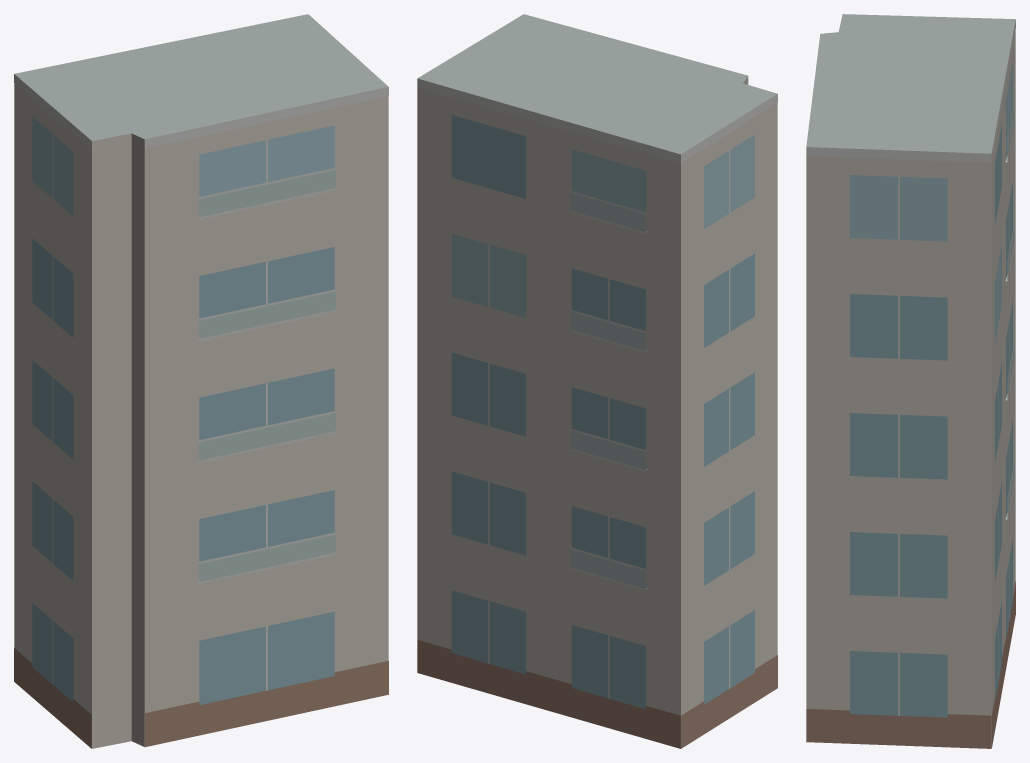
Rendered from survey-upis-32970382.glb.
3 views of the same model, side by side, from view 1: azimuth 30°, elevation 25°; view 2: azimuth 150°, elevation 25°; view 3: azimuth 270°, elevation 25° (orthographic). The views are drawn at different scales.
Visible parts, largest first — view 1: survey-upis-32970382.tmp; view 2: survey-upis-32970382.tmp; view 3: survey-upis-32970382.tmp.
Boxes of the visible parts, <box> form: survey-upis-32970382.tmp: <box>14,14,388,748</box>; survey-upis-32970382.tmp: <box>417,14,777,748</box>; survey-upis-32970382.tmp: <box>806,14,1015,748</box>.
Bounding box in the file's own units: 8.17 × 16.2 × 5.18.
